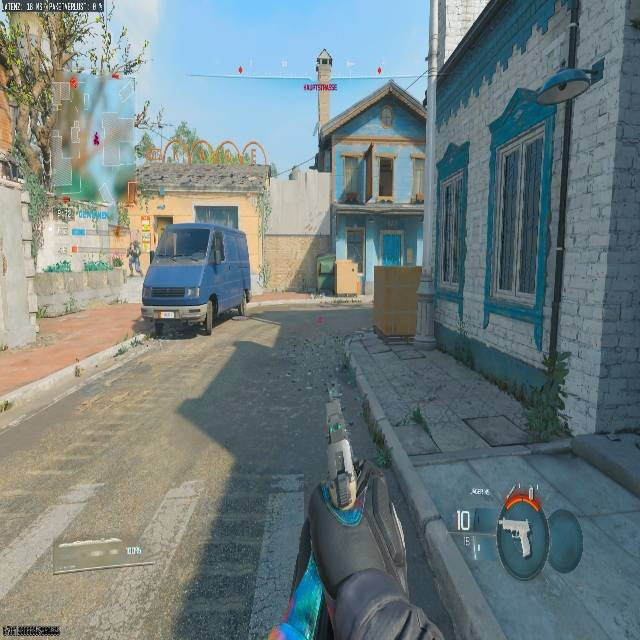player: (127, 239, 142, 275)
